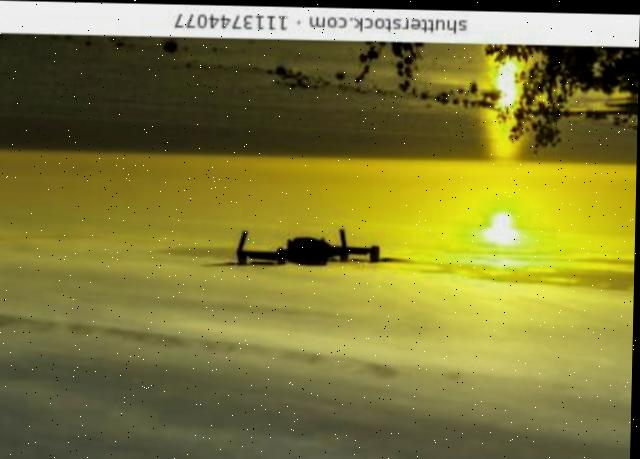drone: (188, 211, 433, 298)
